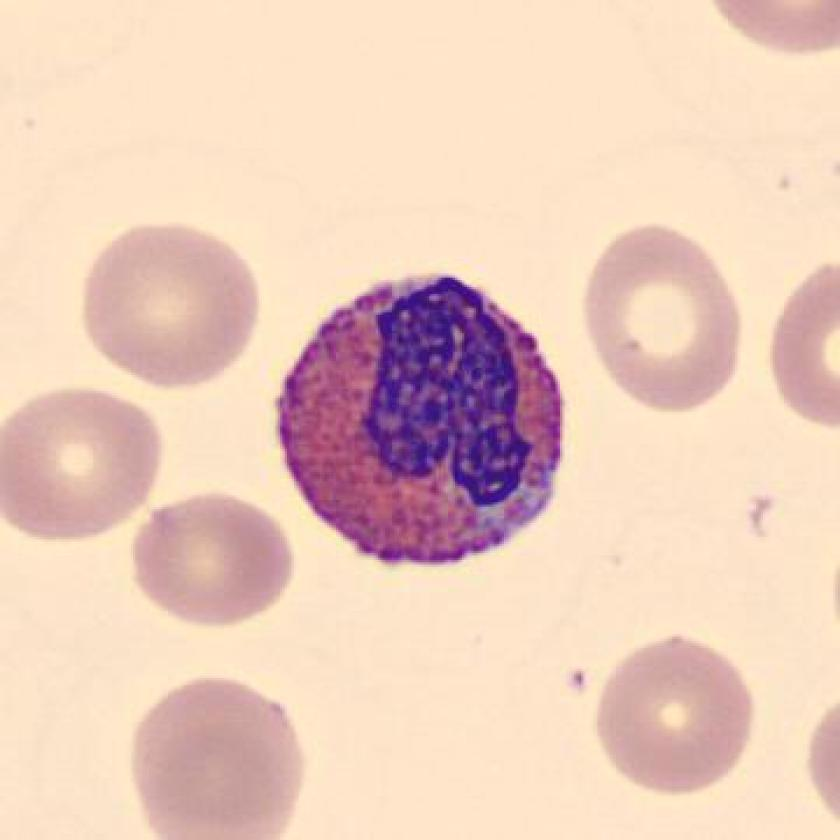eosinophil: (262, 258, 580, 584)
